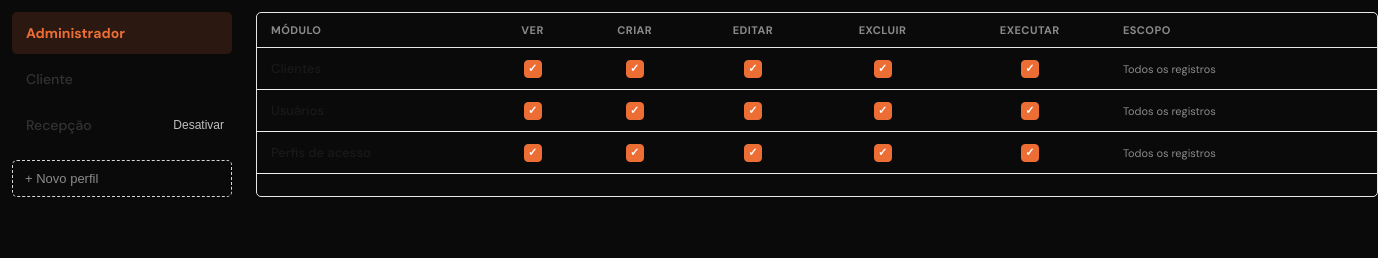
Test: ProfilesPage › sem a ação EDIT em Perfis de acesso, os checkboxes, o escopo e o Salvar da matriz ficam desabilitados
This screenshot has width=1378, height=258.
Click the button "Recepção" at {"x": 87, "y": 125}, box [12, 104, 161, 146]
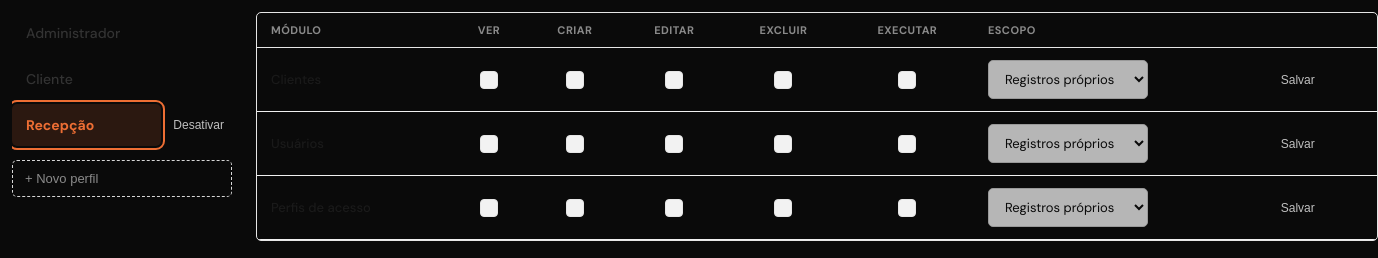
Expected: the checkbox named "Ver em Clientes" is disabled, [480, 70, 498, 88]
Expected: the dropdown named "Escopo de Clientes" is disabled, [988, 60, 1148, 99]
Expected: the button "Salvar" in the row of "Clientes" is disabled, [1273, 68, 1323, 92]
